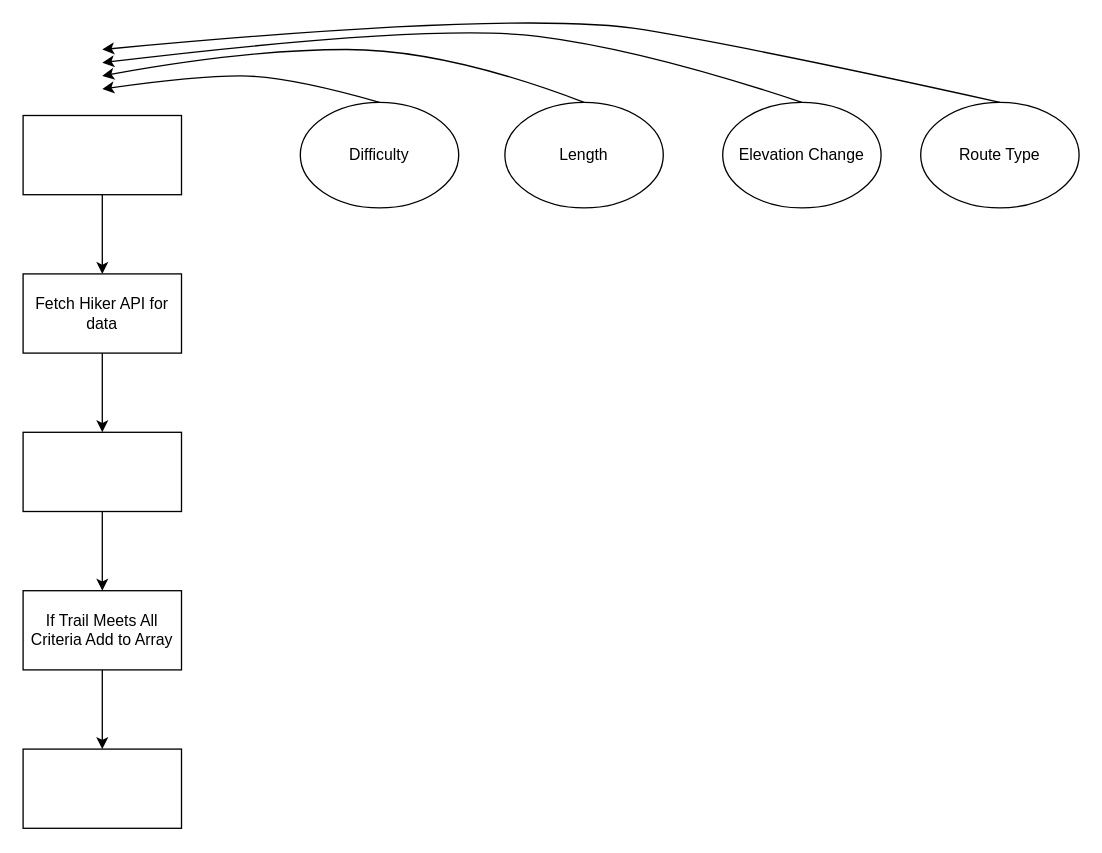
Some shapes in this 1102 by 853 pixel diagram are drawn without their labels. Each missing label, with the box of its shape:
Get User Search Input: (22, 114, 182, 195)
Loop Through All Trails: (22, 431, 182, 512)
Loop Through Array Creating El and Append to HTML: (22, 748, 182, 828)
